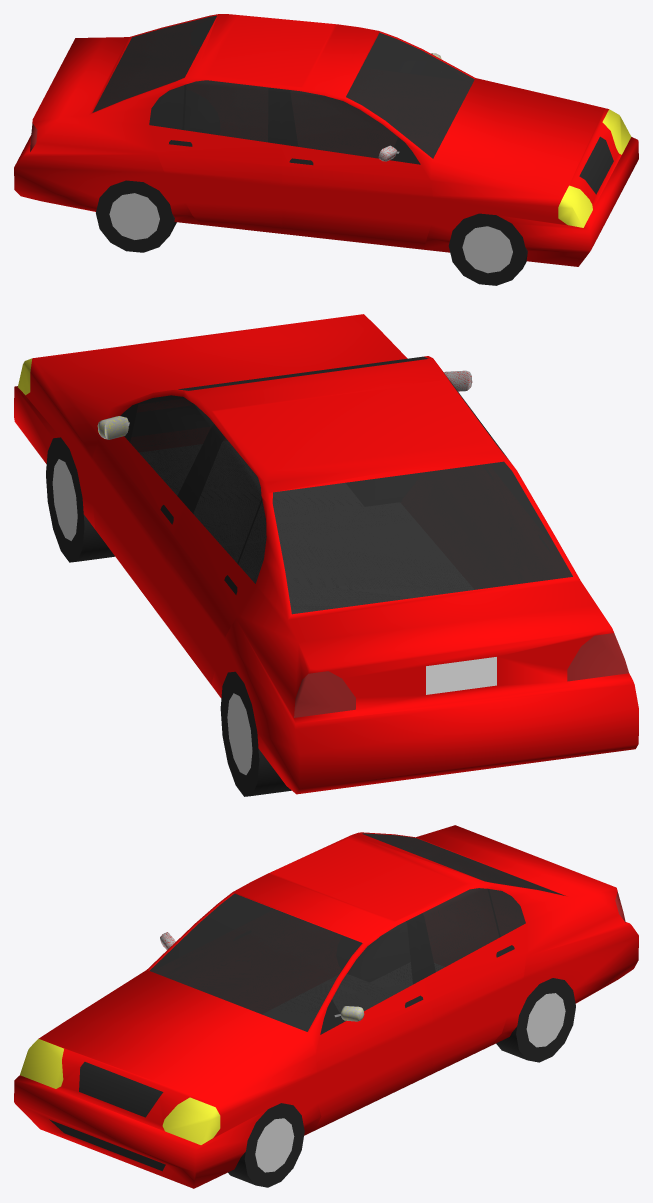
Rendered from car.dae.
The picture shows the model from 3 angles, top to bottom: view 1: azimuth 30°, elevation 25°; view 2: azimuth 150°, elevation 25°; view 3: azimuth 270°, elevation 25°; orthographic projection. The views are drawn at different scales.
Parts seen in each view (by area): view 1: car_sedan (×11), car_wheel_1 (×6); view 2: car_sedan (×11), car_wheel_1 (×4); view 3: car_sedan (×11), car_wheel_1 (×4).
Part boxes in pixels (x1=…): car_sedan (×11): x1=14, y1=14, x2=638, y2=266; car_wheel_1 (×6): x1=96, y1=180, x2=527, y2=285; car_sedan (×11): x1=14, y1=314, x2=638, y2=794; car_wheel_1 (×4): x1=46, y1=437, x2=291, y2=796; car_sedan (×11): x1=14, y1=825, x2=638, y2=1188; car_wheel_1 (×4): x1=228, y1=978, x2=575, y2=1187.
Bounding box in the file's own units: 187 × 179 × 58.82.
